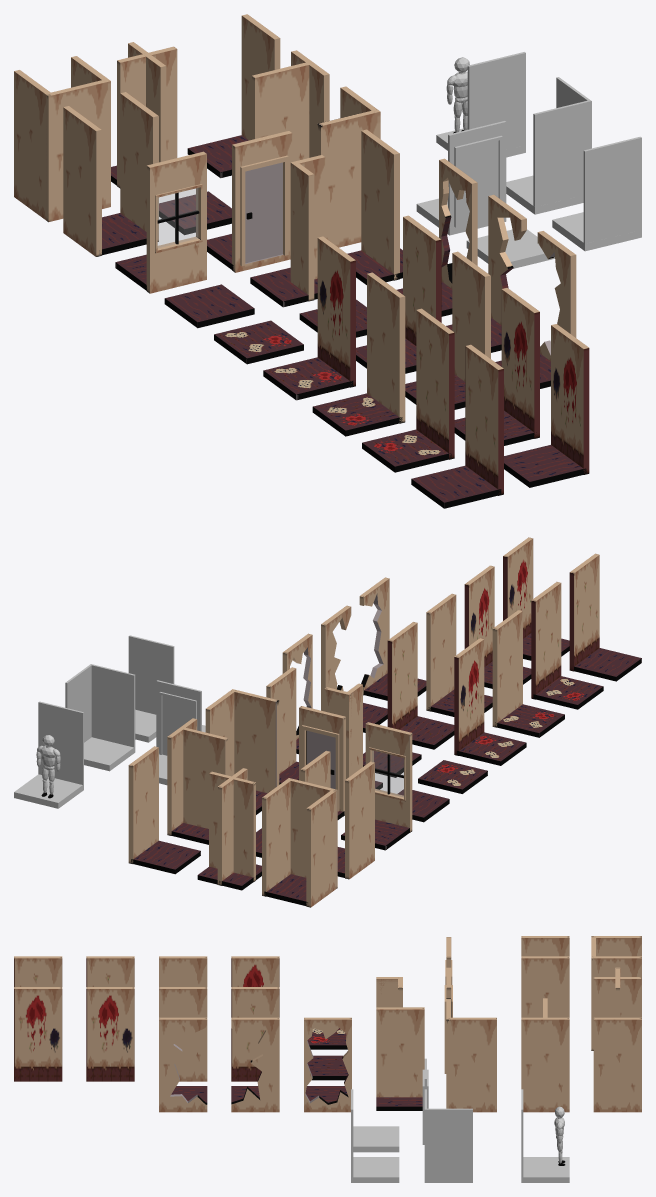
File: MotelTileset.obj
3 renders of one model, top to bottom at view 1: azimuth 30°, elevation 25°; view 2: azimuth 150°, elevation 25°; view 3: azimuth 270°, elevation 25°, orthographic. The views are drawn at different scales.
Visible parts, largest first — view 1: Small_Hall, Small_Hall_End, Window, Wall_3, Blood_Wall_3, Hole_Wall_1, Hole_Wall_2, Blood_Wall_1, Wall.R, Wall, T_Junction, Corner (+20 smaller); view 2: Small_Hall_End, Wall.R, Four_Way, T_Junction, Corner, Window, Wall_1, Hole_Wall_1, Blood_Wall_3, Hole_Wall_2, Wall_3, Small_Hall (+20 smaller); view 3: Inner_Wall, T_Junction, Wall_1, Blood_Wall_1, Blood_Wall_2, Cube.008, Small_Hall, Wall.R, Big_Hole_2, Big_Hole_1, Wall_2, Hole_Wall_3 (+16 smaller).
Part boxes in pixels (x1,y1,x2,y2): Small_Hall: [63, 92, 158, 256]; Small_Hall_End: [14, 56, 110, 222]; Window: [115, 151, 206, 293]; Wall_3: [312, 272, 405, 436]; Blood_Wall_3: [263, 236, 355, 400]; Hole_Wall_1: [411, 344, 503, 508]; Hole_Wall_2: [362, 308, 454, 472]; Blood_Wall_1: [504, 324, 589, 487]; Wall.R: [506, 77, 591, 214]; Wall: [552, 136, 641, 251]; T_Junction: [251, 50, 329, 161]; Corner: [317, 87, 380, 247]; Small_Hall_End: [262, 778, 337, 907]; Wall.R: [65, 664, 135, 771]; Four_Way: [197, 768, 261, 890]; T_Junction: [167, 718, 227, 844]; Corner: [206, 689, 279, 814]; Window: [341, 722, 412, 850]; Wall_1: [128, 746, 200, 874]; Hole_Wall_1: [569, 553, 641, 681]; Blood_Wall_3: [454, 638, 526, 765]; Hole_Wall_2: [531, 582, 603, 709]; Wall_3: [492, 610, 564, 737]; Small_Hall: [300, 750, 374, 879]; Inner_Wall: [376, 1007, 424, 1110]; T_Junction: [521, 998, 569, 1112]; Wall_1: [593, 1017, 641, 1112]; Blood_Wall_1: [14, 987, 62, 1081]; Blood_Wall_2: [86, 987, 134, 1081]; Cube.008: [448, 1017, 496, 1112]; Small_Hall: [521, 936, 569, 1017]; Wall.R: [424, 1089, 472, 1182]; Big_Hole_2: [231, 1017, 279, 1112]; Big_Hole_1: [159, 1017, 207, 1112]; Wall_2: [159, 987, 207, 1081]; Hole_Wall_3: [231, 987, 279, 1081].
Bounding box in the file's own units: 15.1 × 4.24 × 26.
